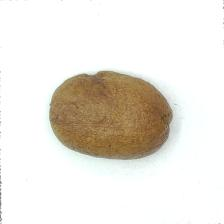NG: (81, 68, 105, 87)
